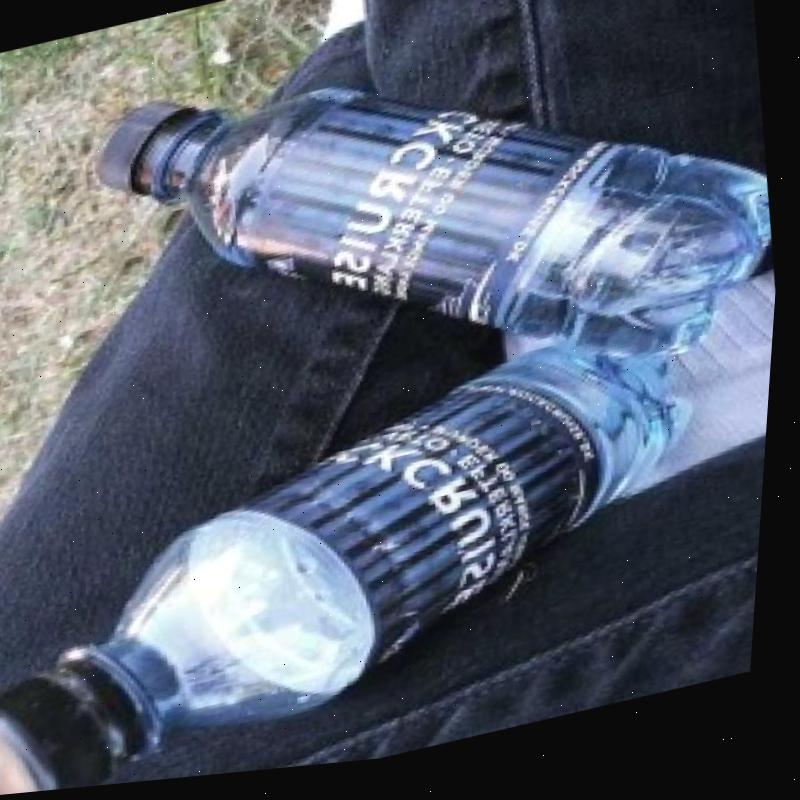botella: (72, 0, 798, 491), (0, 324, 741, 799)
